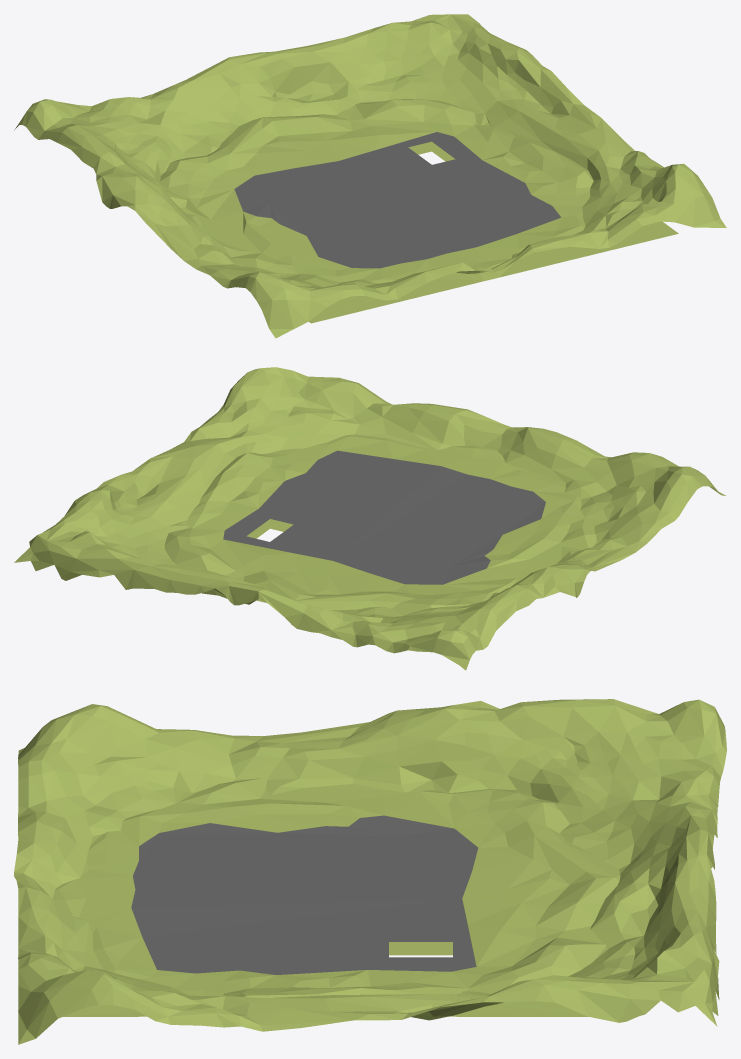
File: Wh_Demo_Terrain.fbx
The picture shows the model from 3 angles, top to bottom: view 1: azimuth 30°, elevation 25°; view 2: azimuth 150°, elevation 25°; view 3: azimuth 270°, elevation 25°; orthographic projection. The views are drawn at different scales.
Parts seen in each view (by area): view 1: Plane.008; view 2: Plane.008; view 3: Plane.008.
Boxes of the visible parts, x1=… form: Plane.008: x1=14, y1=14, x2=726, y2=338; Plane.008: x1=14, y1=367, x2=725, y2=670; Plane.008: x1=14, y1=699, x2=726, y2=1044.
Bounding box in the file's own units: 10278 × 1183 × 10203.
